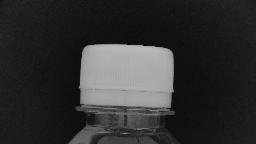Good Cap: (72, 40, 178, 122)
